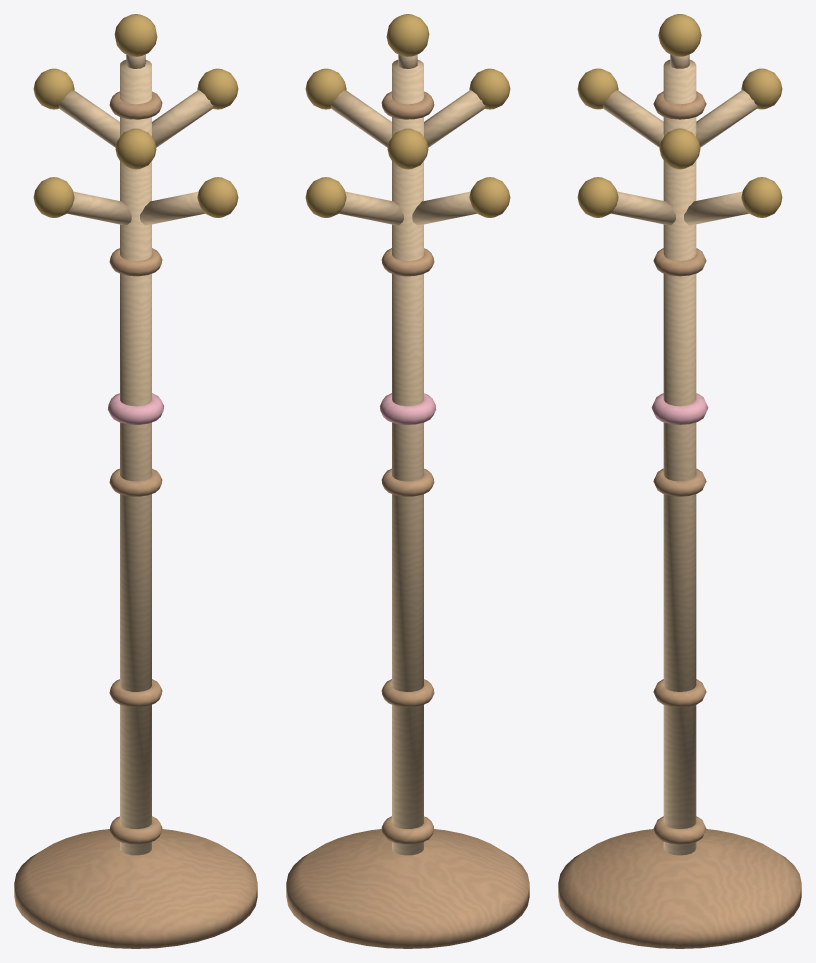
File: trumua-coat-rack.glb
3 views of the same model, side by side, from view 1: azimuth 30°, elevation 25°; view 2: azimuth 150°, elevation 25°; view 3: azimuth 270°, elevation 25° (orthographic).
Visible parts, largest first — view 1: trumua-coat-rack; view 2: trumua-coat-rack; view 3: trumua-coat-rack.
Boxes of the visible parts, x1=… form: trumua-coat-rack: x1=14, y1=14, x2=257, y2=948; trumua-coat-rack: x1=286, y1=14, x2=529, y2=948; trumua-coat-rack: x1=558, y1=14, x2=801, y2=948.
Size of the model in its own units: 0.45 by 1.8 by 0.45.
Materials: 1 (1 with a texture image).
